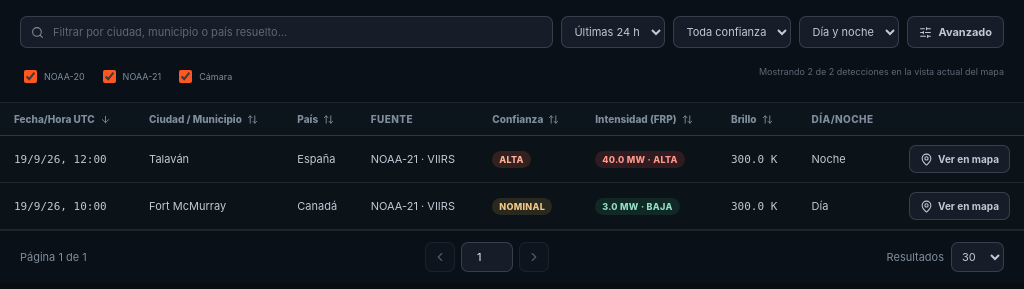
Scenario: FireTable › filters rows by a resolved country from the main search box
Expected: the text "España" is shown, [297,152,335,166]
Expected: the text "Canadá" is shown, [297,199,337,213]
Type "canad" into the field with placeholder "Filtrar por ciudad, municipio o país resuelto…" at (297, 32), box [51,24,542,40]
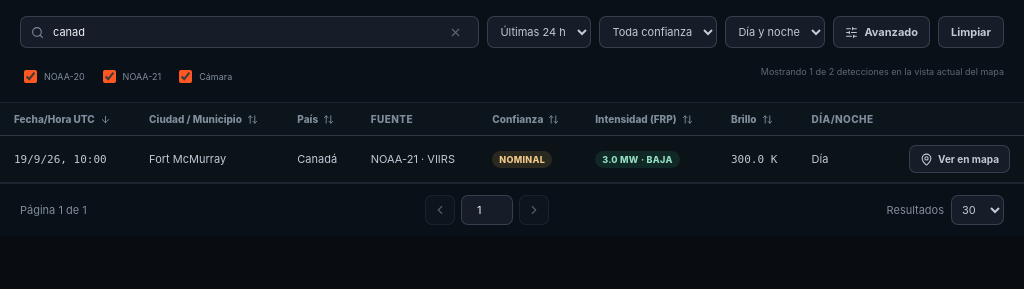
Expected: the text "Canadá" is shown, [297,152,337,166]
Expected: the text "España" is gone
